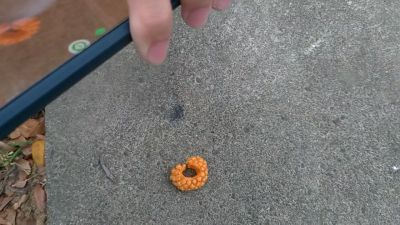eggs: (170, 153, 209, 191)
